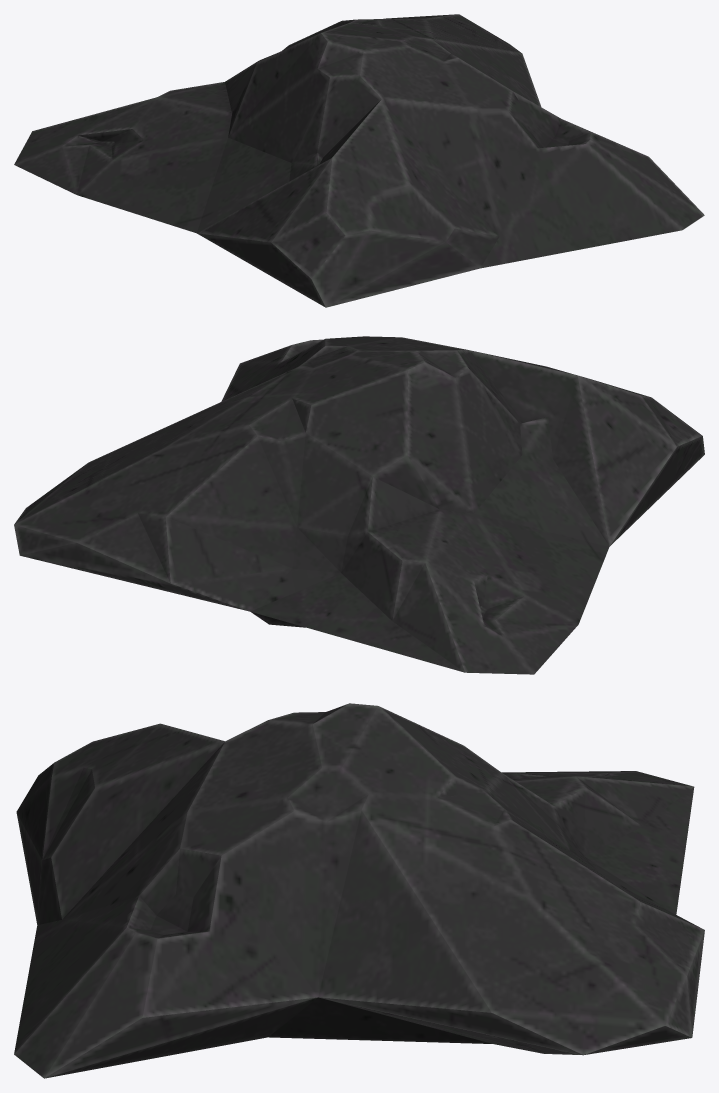
The model's file is SteelJunkCast_Polished.glb.
The picture shows the model from 3 angles, top to bottom: view 1: azimuth 30°, elevation 25°; view 2: azimuth 150°, elevation 25°; view 3: azimuth 270°, elevation 25°; orthographic projection. The views are drawn at different scales.
Visible parts, largest first — view 1: SteelJunkCast_Polished; view 2: SteelJunkCast_Polished; view 3: SteelJunkCast_Polished.
Boxes of the visible parts, left/top/right/bottom form: SteelJunkCast_Polished: left=14, top=14, right=704, bottom=307; SteelJunkCast_Polished: left=14, top=336, right=704, bottom=674; SteelJunkCast_Polished: left=14, top=703, right=704, bottom=1078.
Bounding box in the file's own units: 0.5571 × 0.1926 × 0.5258.
1 material, 1 textured.
